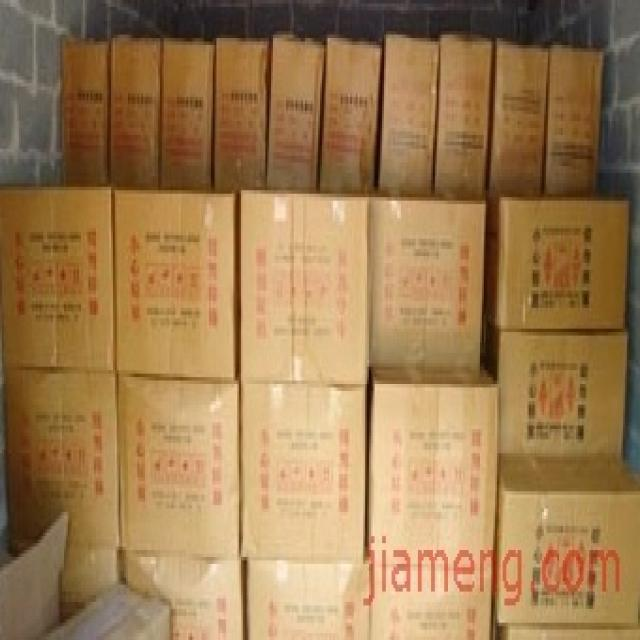box: (237, 187, 373, 384), (369, 366, 499, 559), (493, 456, 638, 629), (117, 182, 239, 380), (239, 381, 366, 557), (117, 374, 239, 555), (1, 181, 117, 371), (2, 368, 118, 554), (0, 512, 172, 637), (487, 183, 630, 332), (372, 189, 487, 368), (483, 329, 628, 457), (489, 38, 548, 238), (119, 546, 245, 637), (374, 32, 438, 196), (368, 555, 494, 636), (244, 557, 369, 637), (320, 34, 383, 190), (267, 31, 327, 190), (434, 37, 491, 196), (545, 49, 605, 190), (212, 38, 268, 188), (108, 36, 161, 184), (159, 41, 213, 186), (61, 41, 109, 182), (493, 607, 637, 637), (65, 547, 120, 612)
